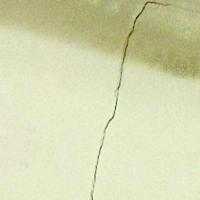crack: (90, 0, 171, 199)
